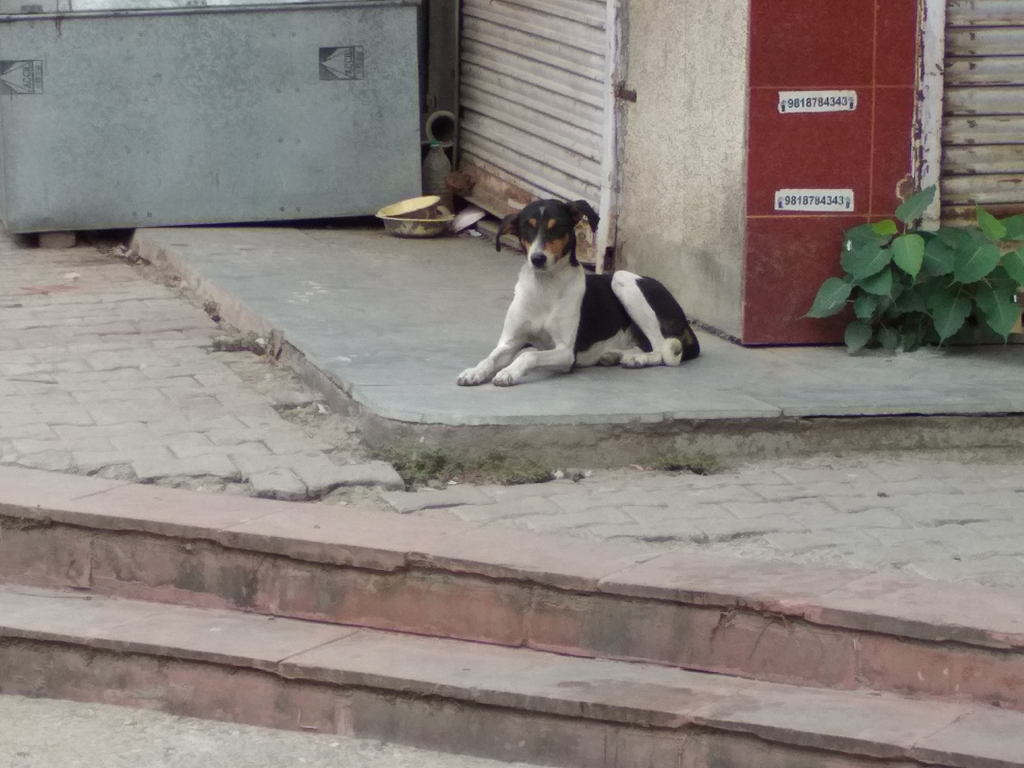dog: (455, 200, 698, 386)
